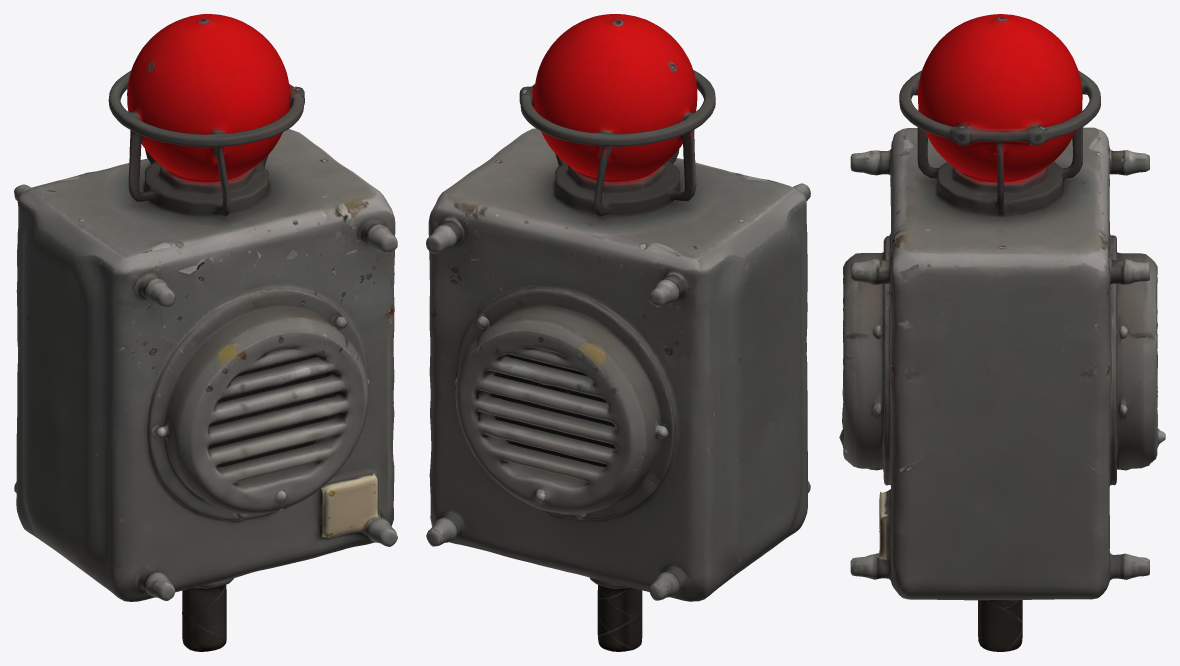
File: g67_event_siren.glb
The picture shows the model from 3 angles, left to right: view 1: azimuth 30°, elevation 25°; view 2: azimuth 150°, elevation 25°; view 3: azimuth 270°, elevation 25°; orthographic projection.
Parts seen in each view (by area): view 1: tripo_node_3a227b66; view 2: tripo_node_3a227b66; view 3: tripo_node_3a227b66.
Boxes of the visible parts, bbox=[...] form: tripo_node_3a227b66: bbox=[14, 14, 397, 651]; tripo_node_3a227b66: bbox=[426, 14, 810, 651]; tripo_node_3a227b66: bbox=[839, 14, 1165, 651].
Bounding box in the file's own units: 47.83 × 97.74 × 46.16.
Materials: 1 (1 with a texture image).
